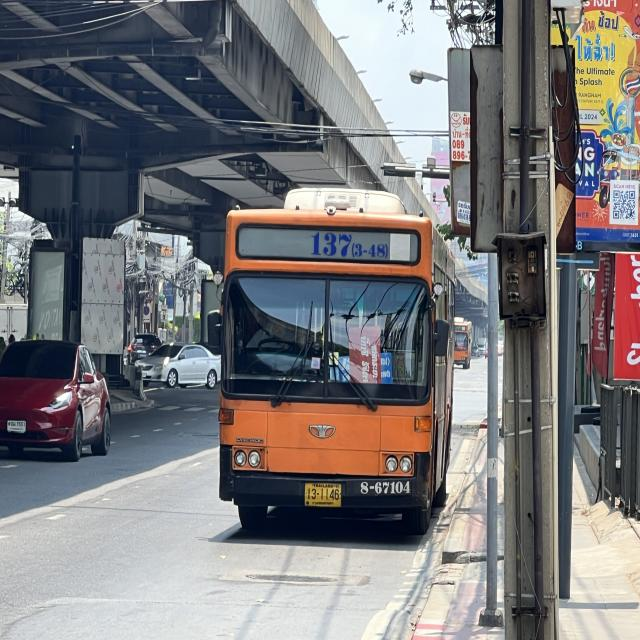BMTA-bus: (212, 174, 459, 539), (455, 315, 472, 373)
Bus-Line-Number: (306, 229, 389, 260)
Destination-Sign-Normal: (332, 354, 393, 384)
